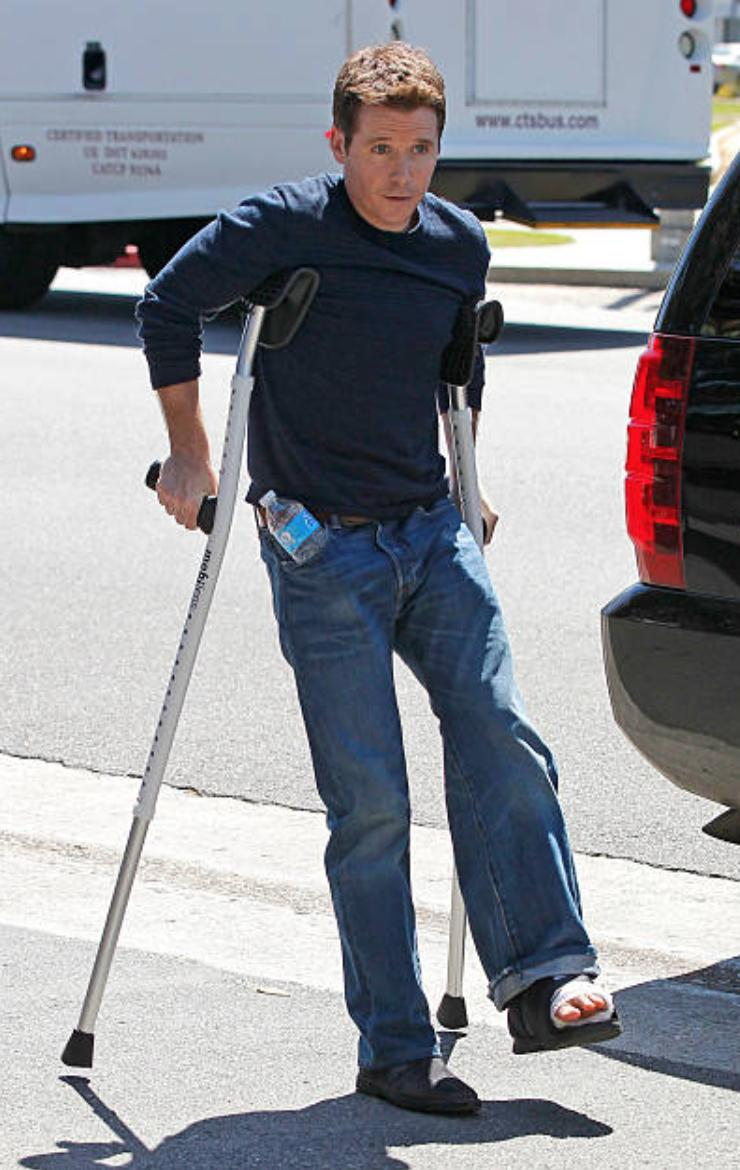crutches: (59, 41, 624, 1116)
